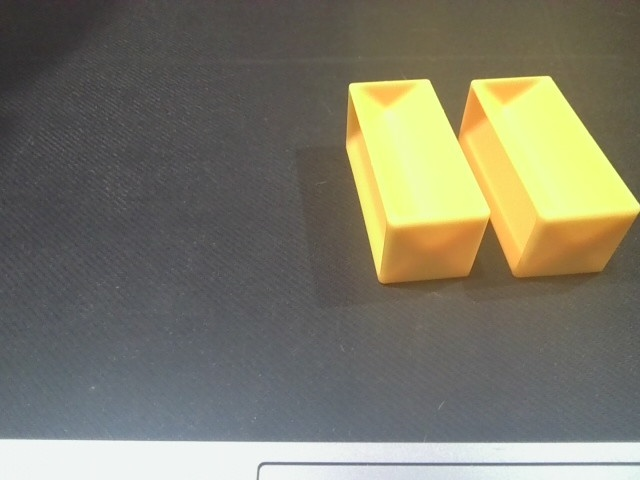YellowSample: (452, 73, 640, 281), (339, 77, 495, 289)
